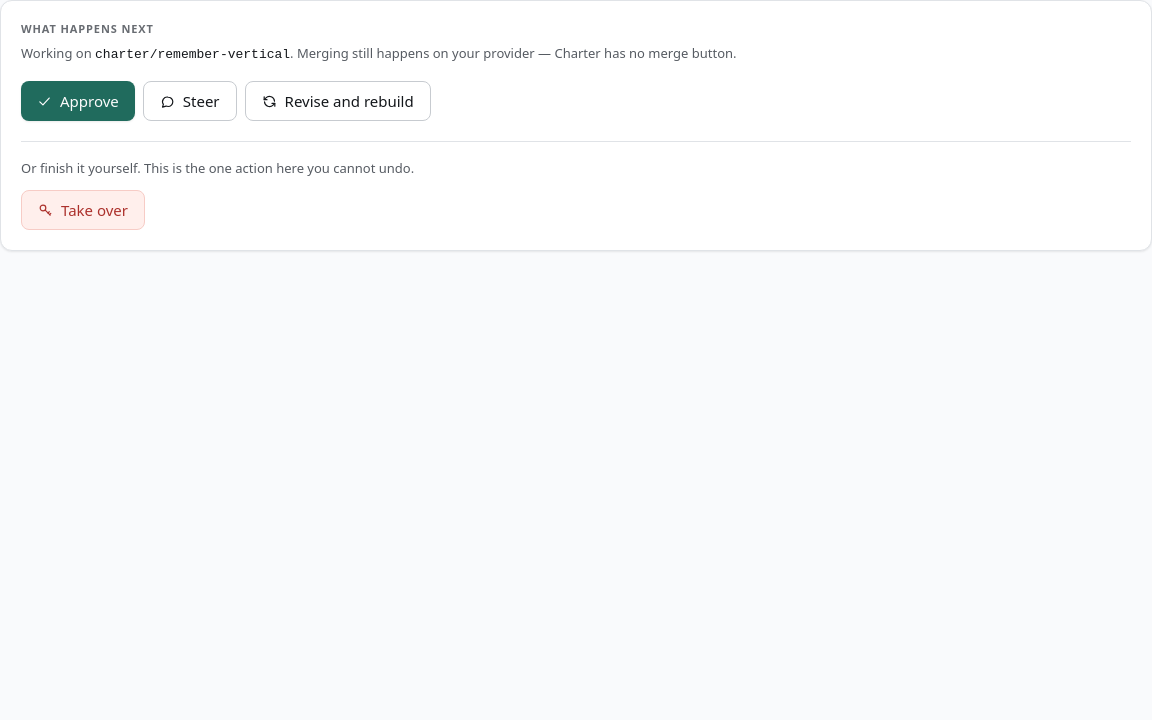
Test: Take over is the consequential one (§7.5) › spells out that agent writes to the branch stop, before anything happens
Click the button "Take over" at (83, 210), box [21,190,145,230]
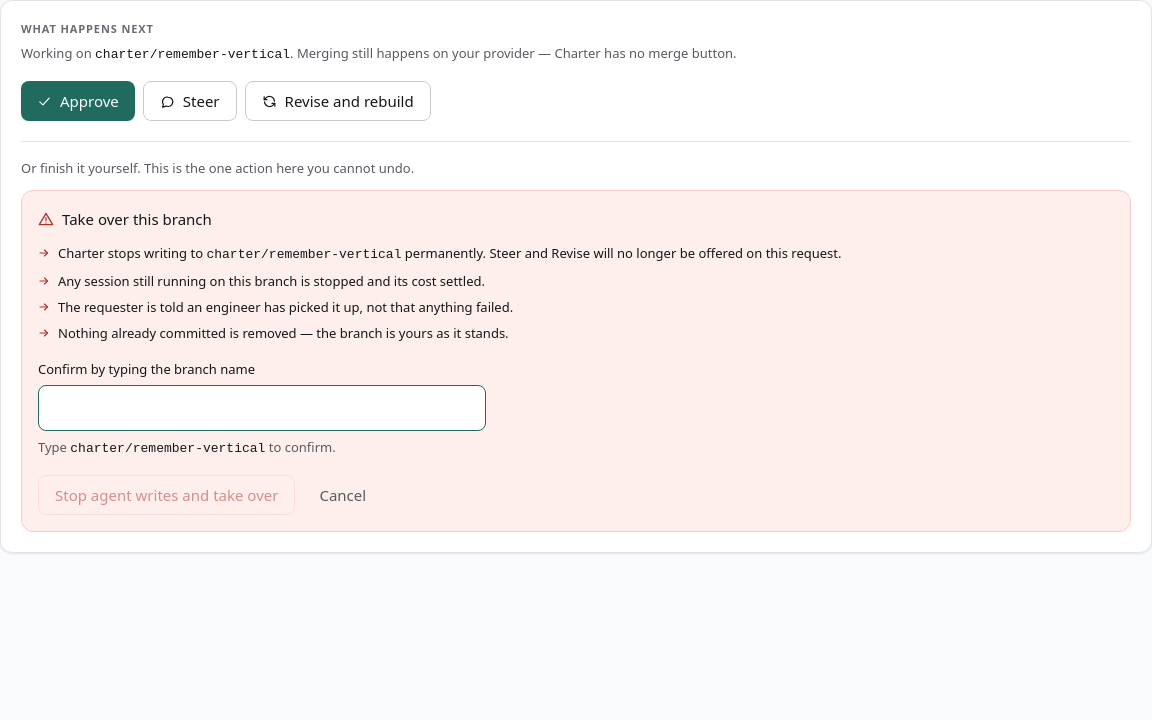
Expected: the heading "Take over this branch" is shown, [38,209,212,229]
Expected: the text "Charter stops writing to" is shown, [58,244,203,262]
Expected: the text "Steer and Revise will no longer be offered" is shown, [402,244,842,262]
